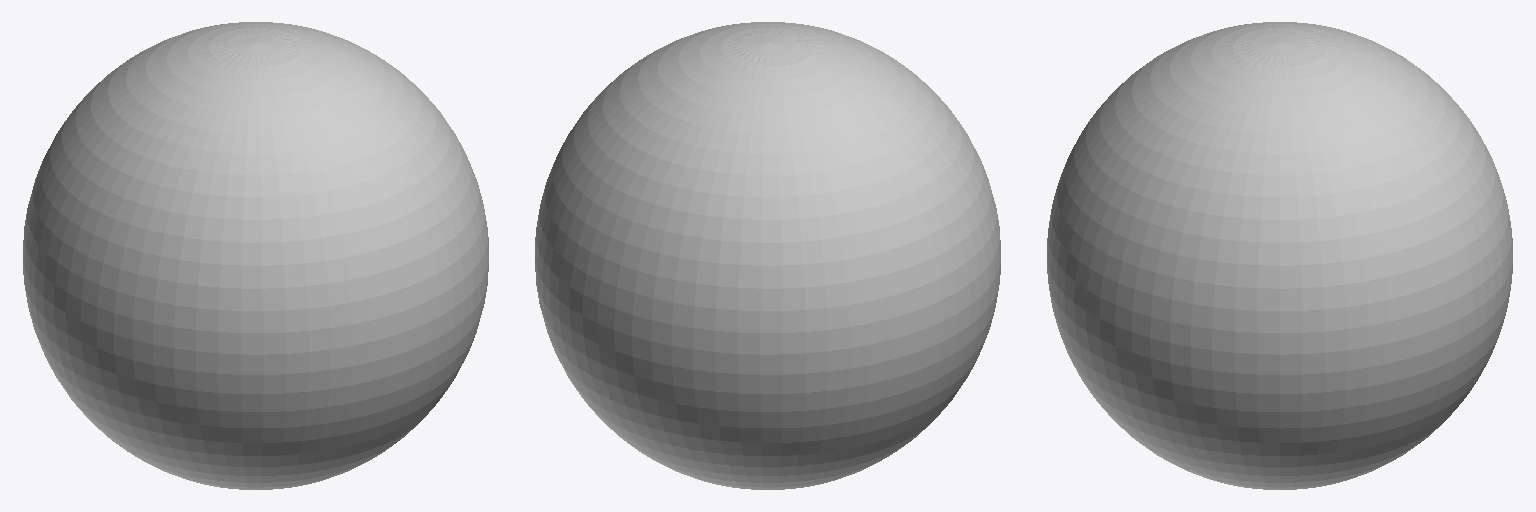
The model's file is planet.obj.
3 renders of one model, left to right at view 1: azimuth 30°, elevation 25°; view 2: azimuth 150°, elevation 25°; view 3: azimuth 270°, elevation 25°, orthographic.
Visible parts, largest first — view 1: Sphere; view 2: Sphere; view 3: Sphere.
Boxes of the visible parts, <box> form: Sphere: <box>23,22,488,489</box>; Sphere: <box>535,22,1000,489</box>; Sphere: <box>1047,22,1512,489</box>.
Size of the model in its own units: 1.98 by 2 by 1.98.